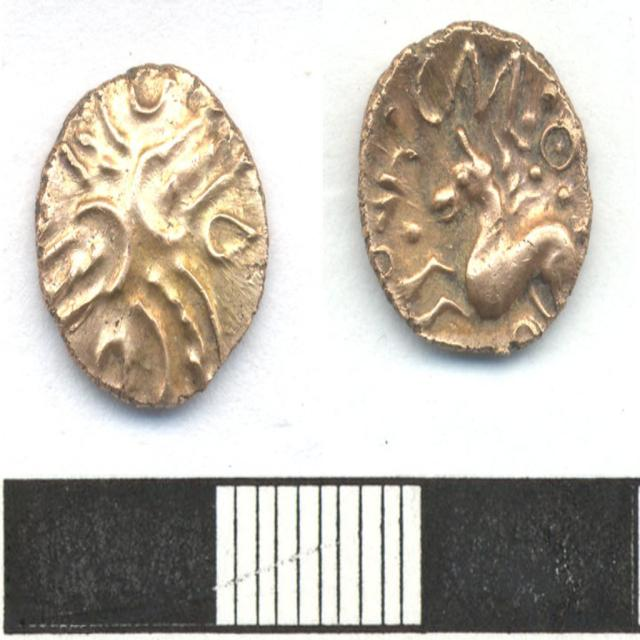Coin: (36, 58, 271, 412), (358, 20, 592, 358)
